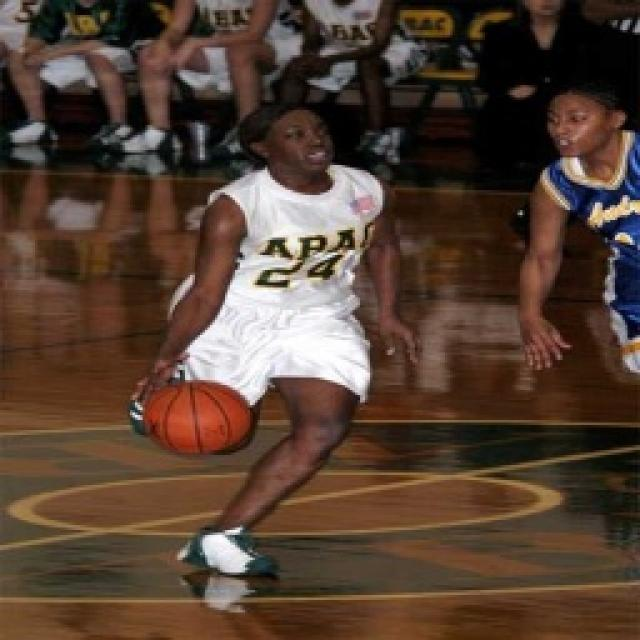rim: (140, 360, 258, 465)
